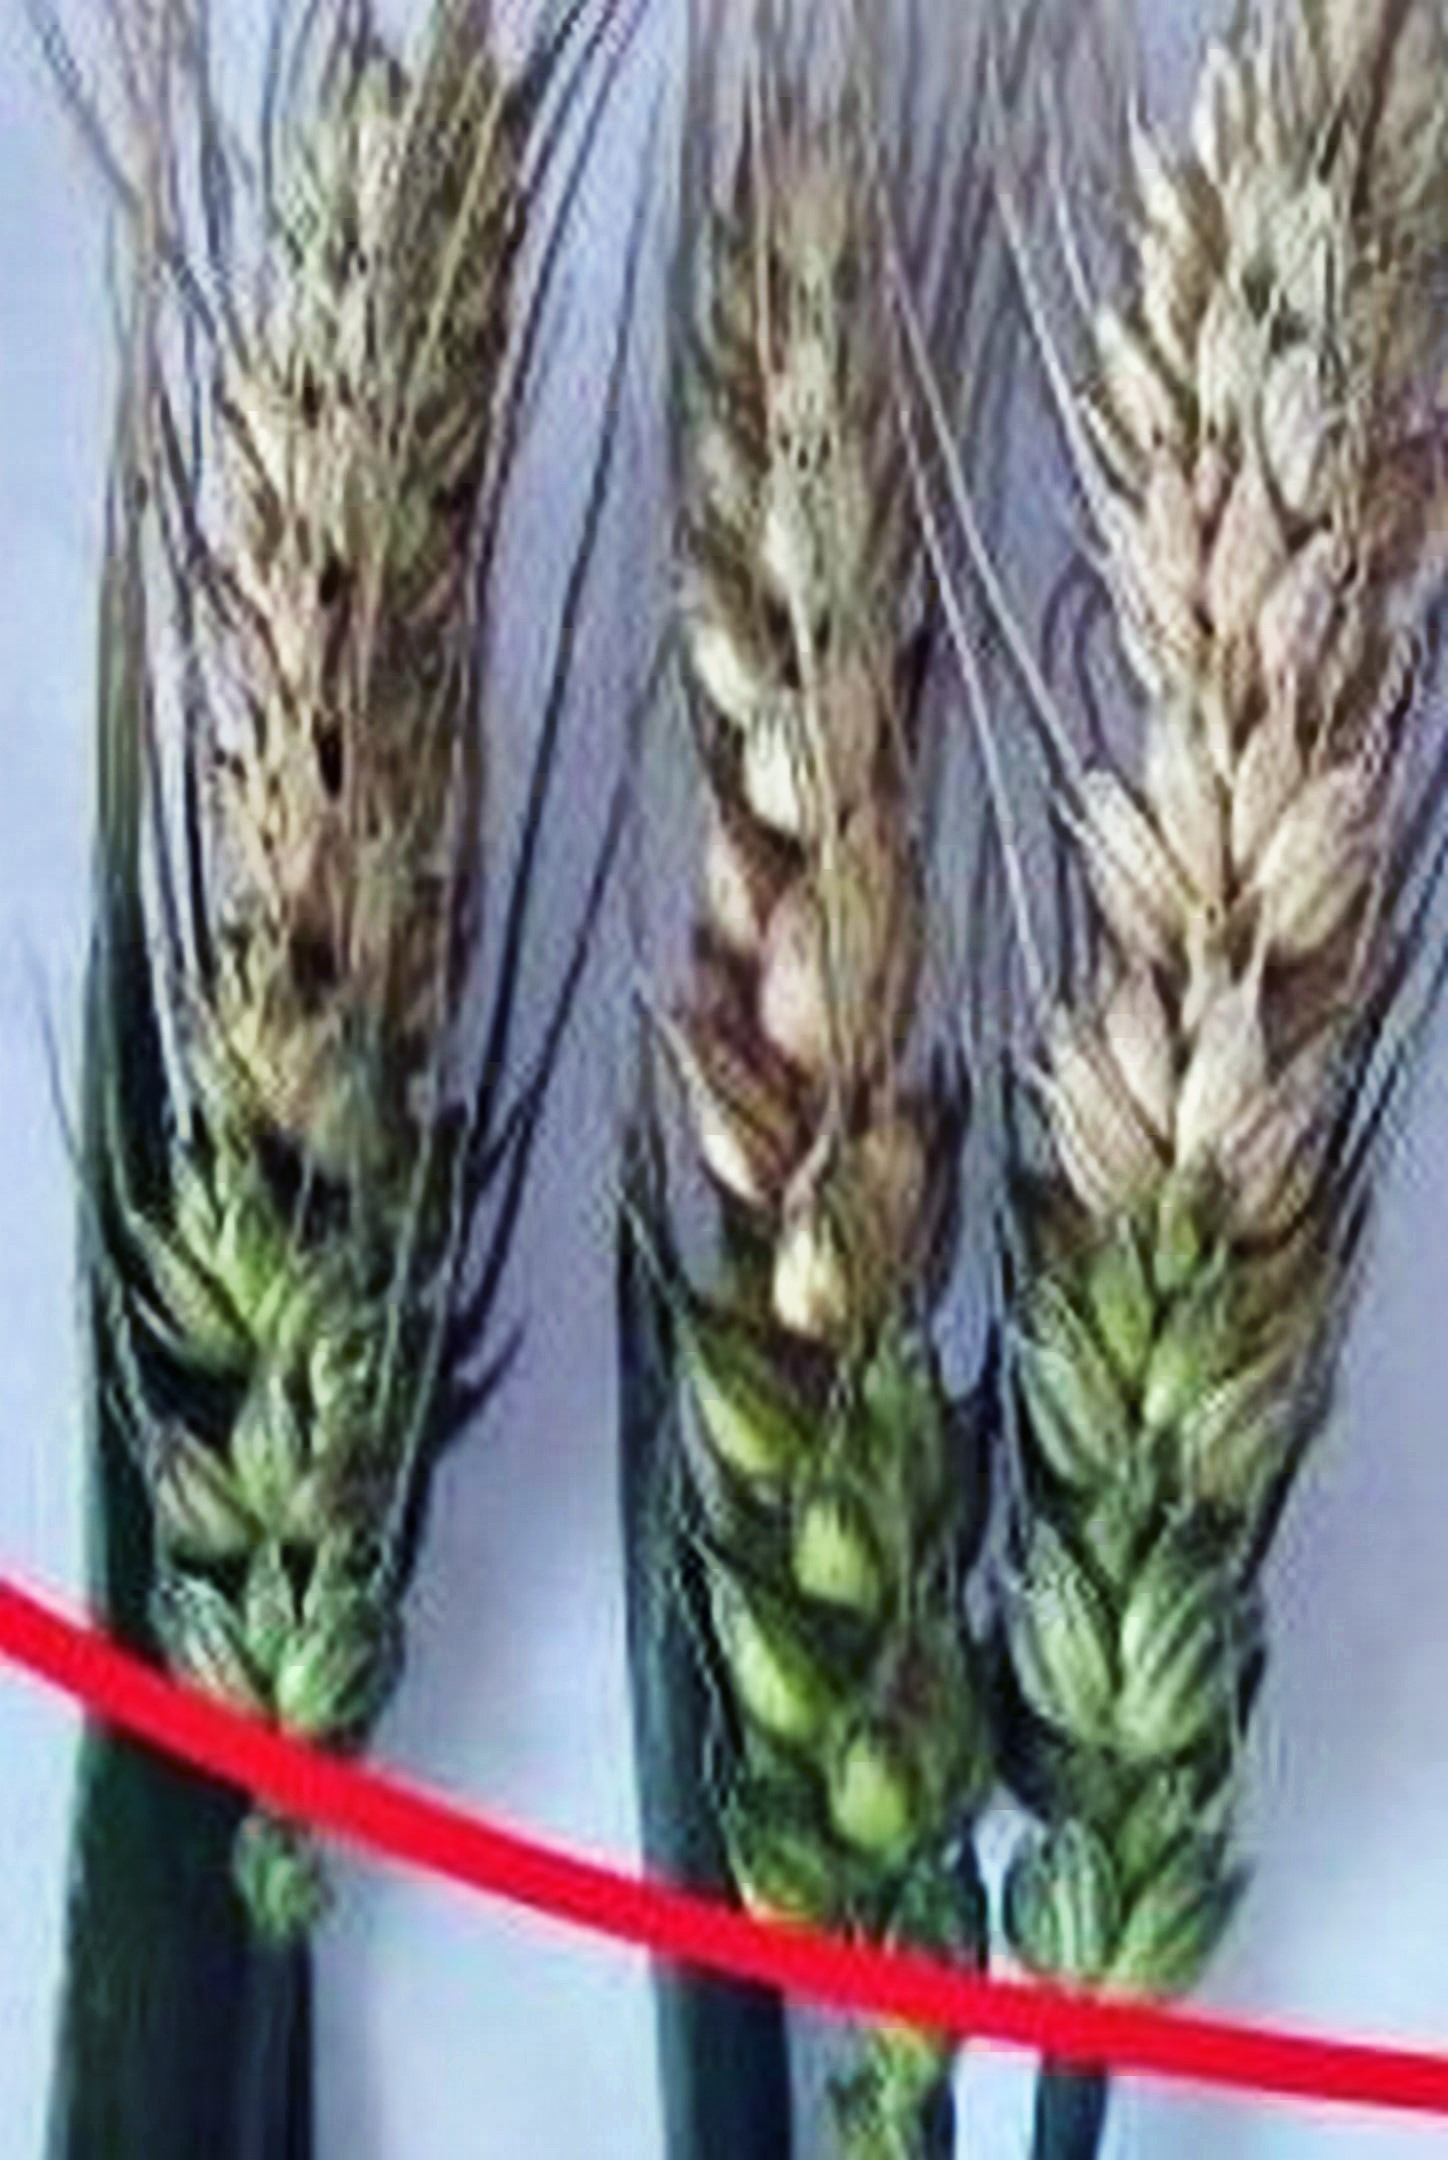Wheat scab: (1018, 45, 1432, 1981)
